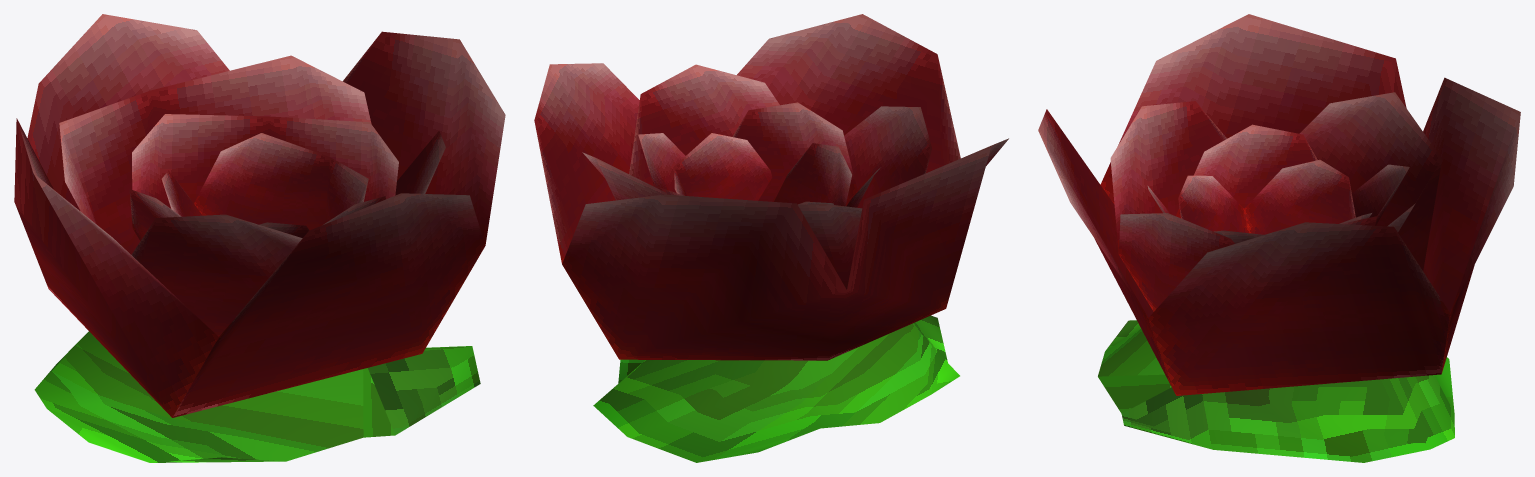
3 renders of one model, left to right at view 1: azimuth 30°, elevation 25°; view 2: azimuth 150°, elevation 25°; view 3: azimuth 270°, elevation 25°, orthographic. The views are drawn at different scales.
Visible parts, largest first — view 1: fl_el27; view 2: fl_el27; view 3: fl_el27.
Part boxes in pixels (bbox=[...]): fl_el27: bbox=[14, 14, 505, 462]; fl_el27: bbox=[534, 14, 1008, 462]; fl_el27: bbox=[1038, 14, 1520, 462].
Size of the model in its own units: 0.2057 by 0.1385 by 0.2015.
Materials: 1 (1 with a texture image).
